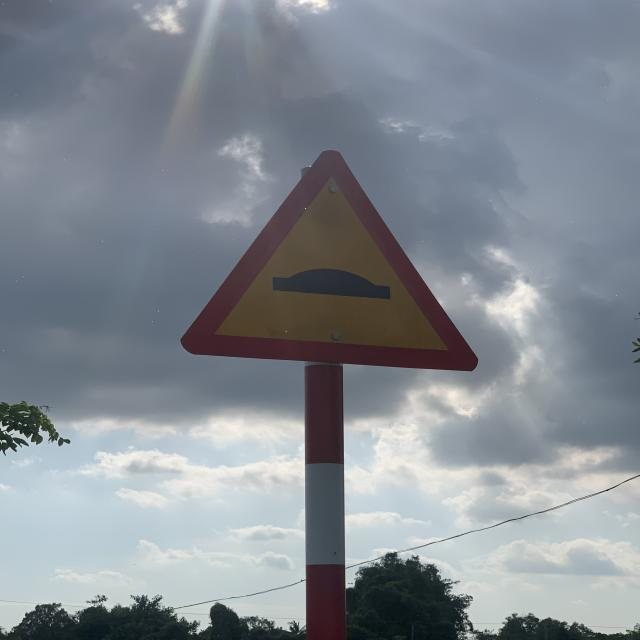Duong_Cong_Ben_Phai: (179, 150, 479, 370)
